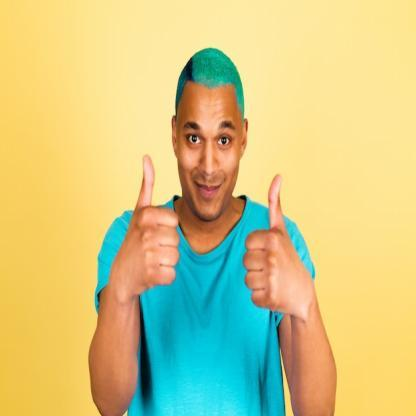thumb_up: (118, 153, 182, 294), (241, 172, 300, 312)
